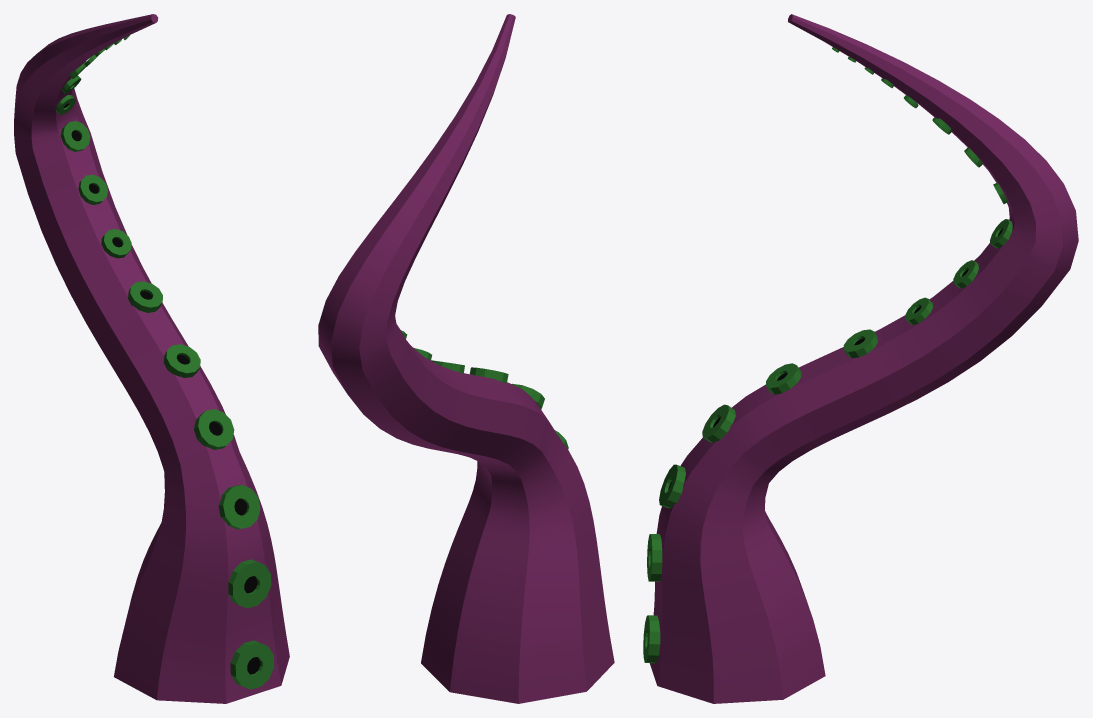
File: pinky_Tentacle.fbx
The picture shows the model from 3 angles, left to right: view 1: azimuth 30°, elevation 25°; view 2: azimuth 150°, elevation 25°; view 3: azimuth 270°, elevation 25°; orthographic projection. The views are drawn at different scales.
Visible parts, largest first — view 1: BezierCurve; view 2: BezierCurve; view 3: BezierCurve.
Boxes of the visible parts, x1,y1,x2,y2 form: BezierCurve: (14, 14, 289, 703); BezierCurve: (318, 14, 614, 703); BezierCurve: (643, 14, 1078, 703).
Size of the model in its own units: 156 by 621 by 382.
